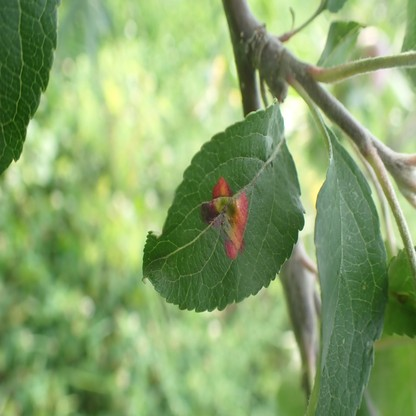rust: (204, 180, 247, 258)
